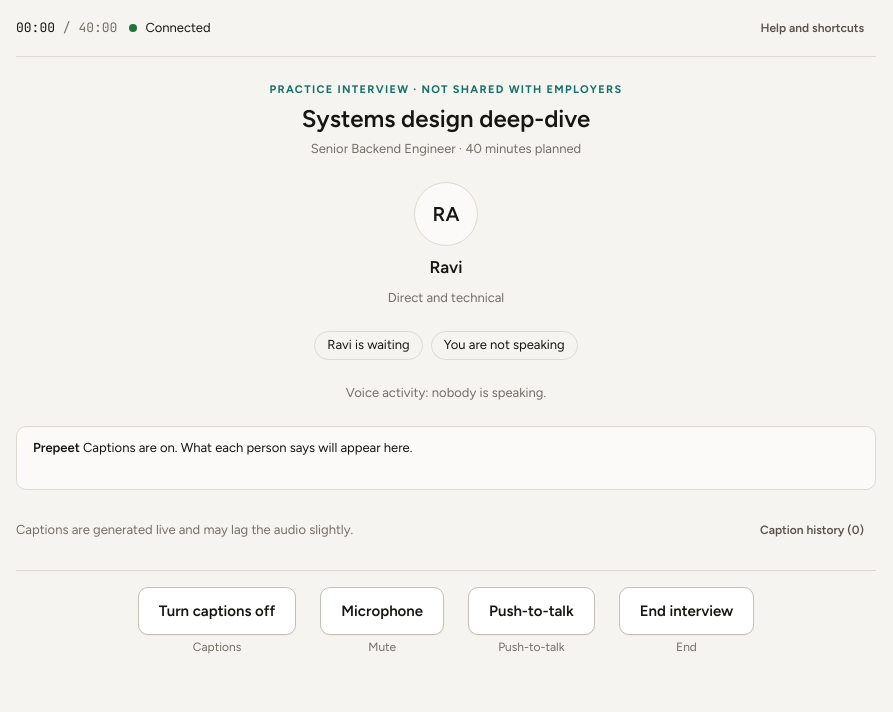
Scenario: push-to-talk, by pointer and by keyboard › switching announces the change and closes the microphone until held
Expected: the text "Ravi" is shown, [430,254,462,280]
Click the button with aria-label "switch to push-to-talk". click: (531, 611)
box: [468,587,595,635]
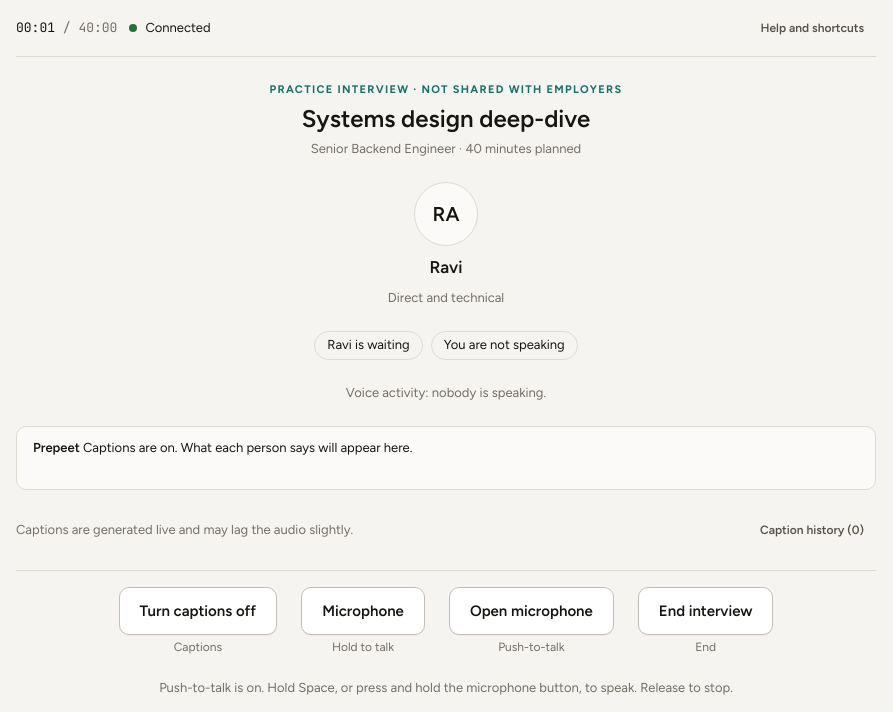
Expected: the text "Hold Space, or press and hold the microphone" is shown, [159,680,733,695]
